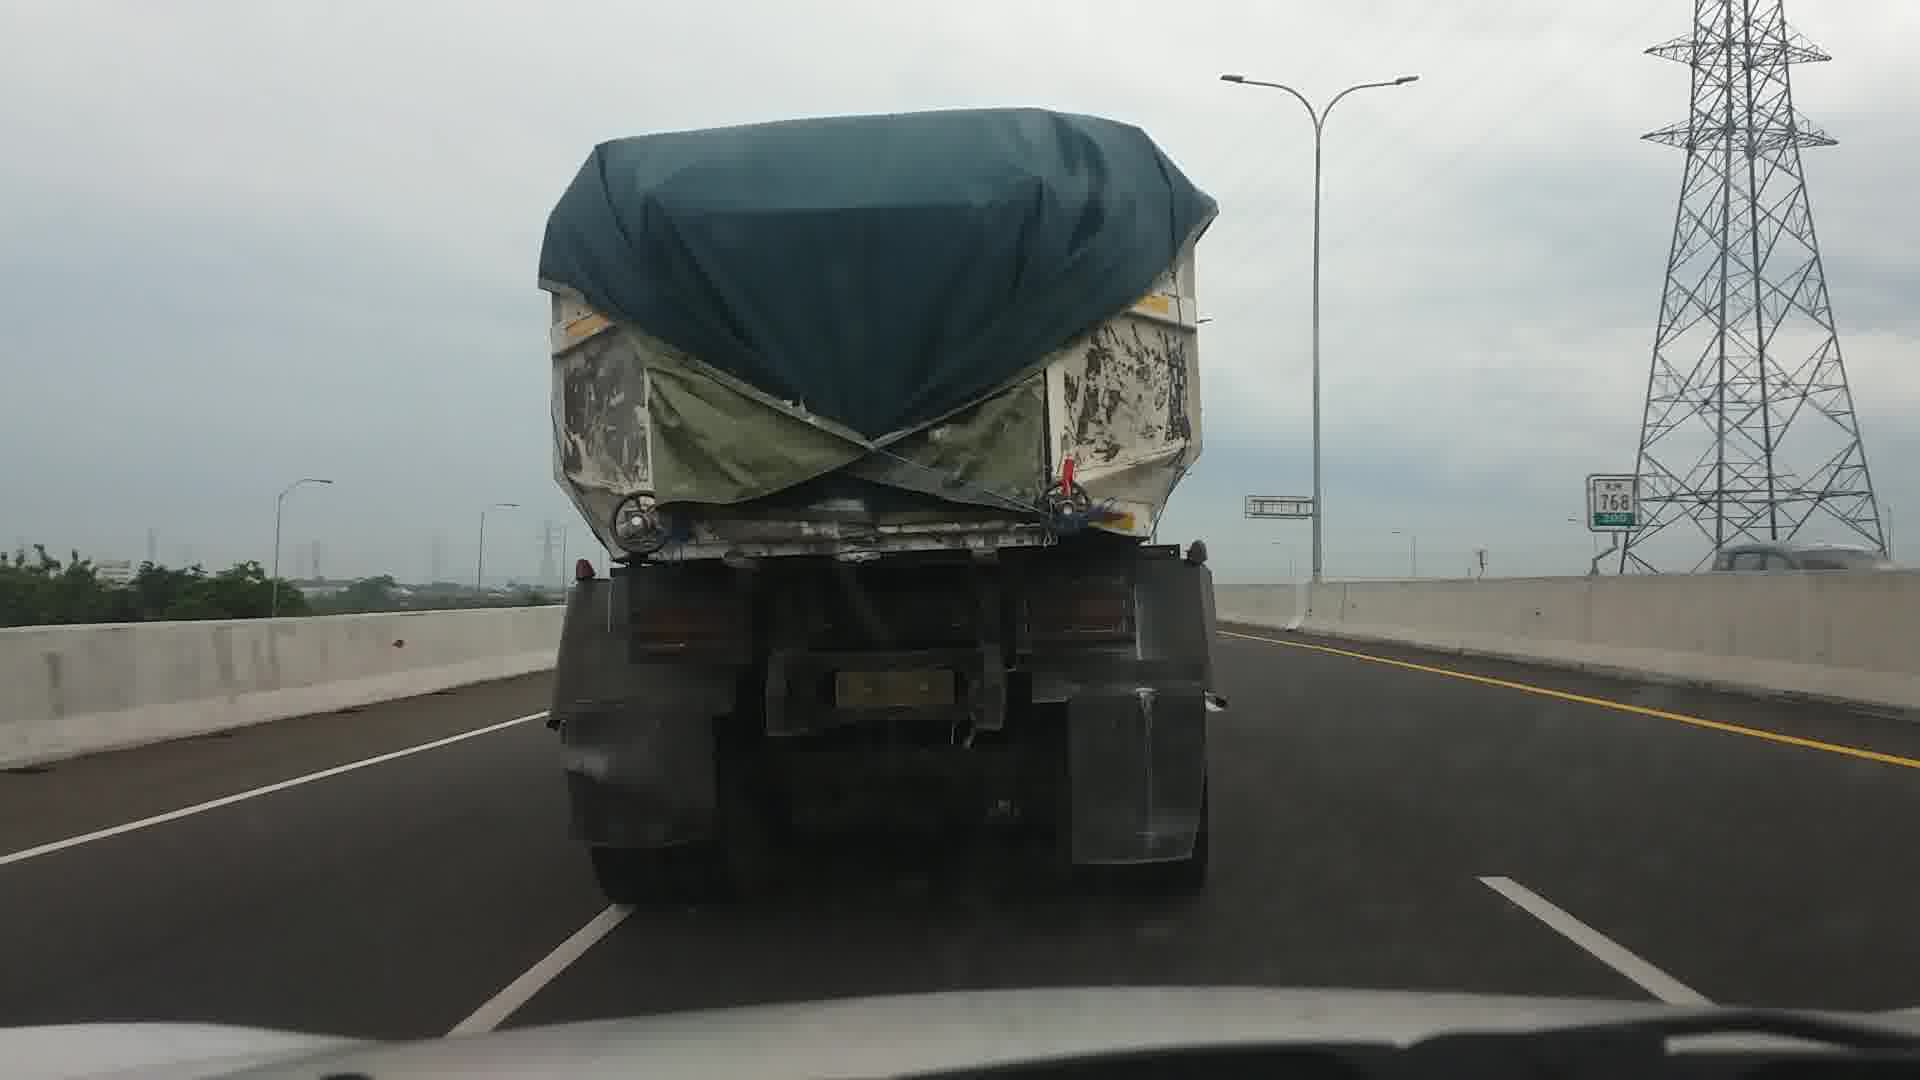plate_positive: (836, 671, 953, 705)
